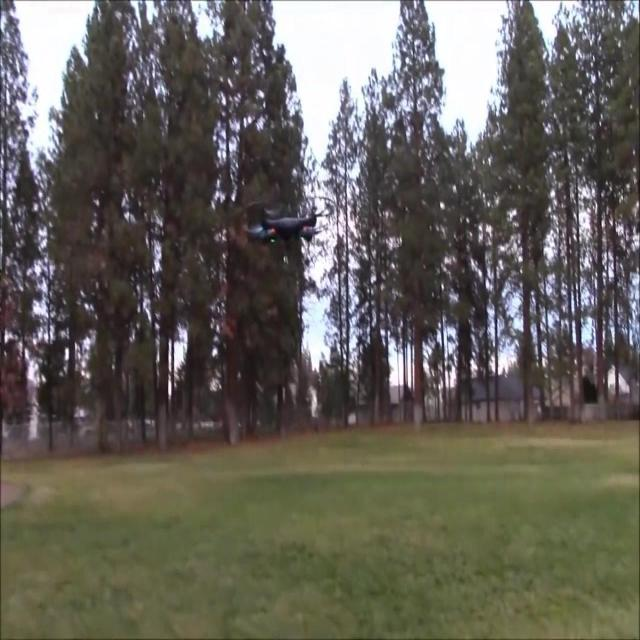drone: (241, 192, 335, 258)
